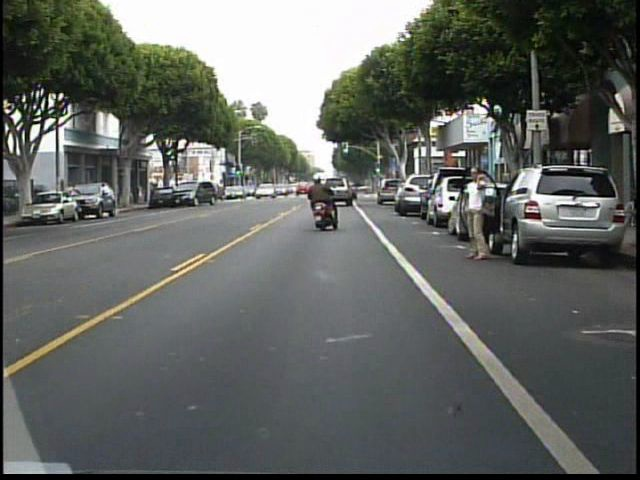person: (462, 163, 491, 264), (300, 170, 341, 230)
